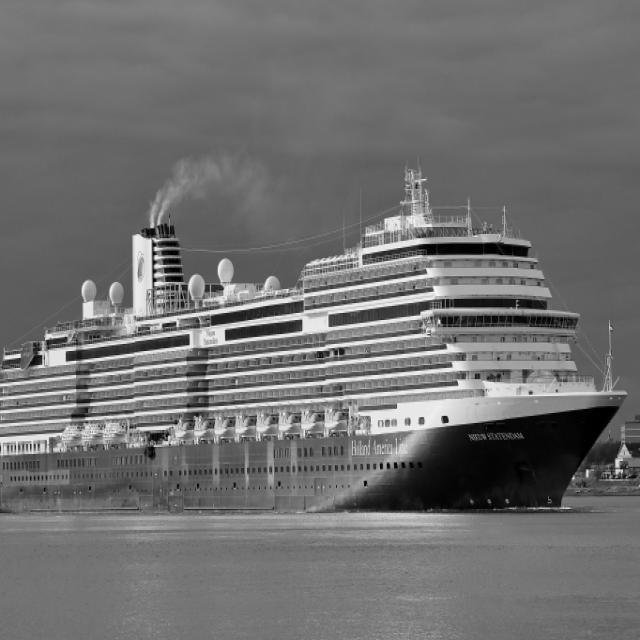cruises: (1, 180, 635, 517)
